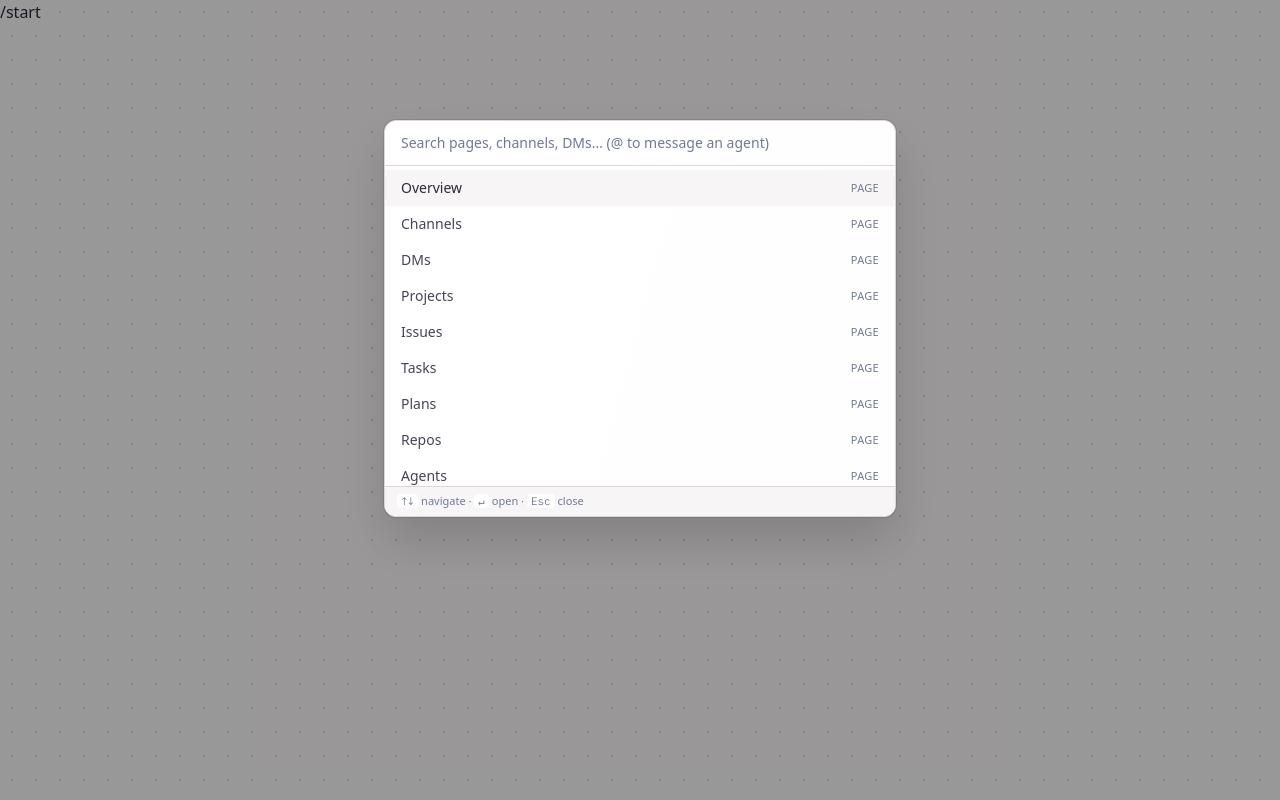
it: CommandPalette org-scoped navigation (v2.8.1 fix) › navigates to /organizations/{slug}/… when an org context is present
This screenshot has width=1280, height=800.
In the field with test id "palette-input": (640, 144) x1=385 y1=121 x2=895 y2=166, type "channels"
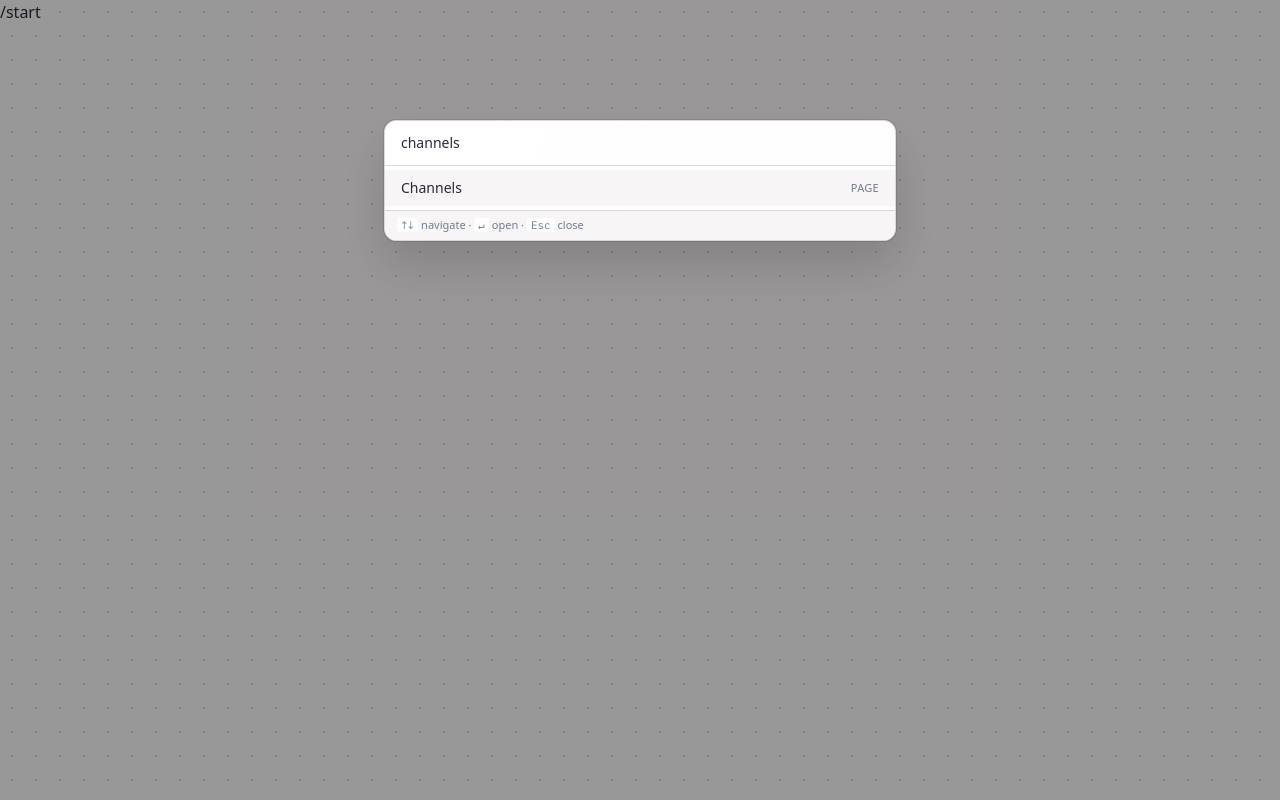
Press Enter in the field with test id "palette-input", box x1=385 y1=121 x2=895 y2=166
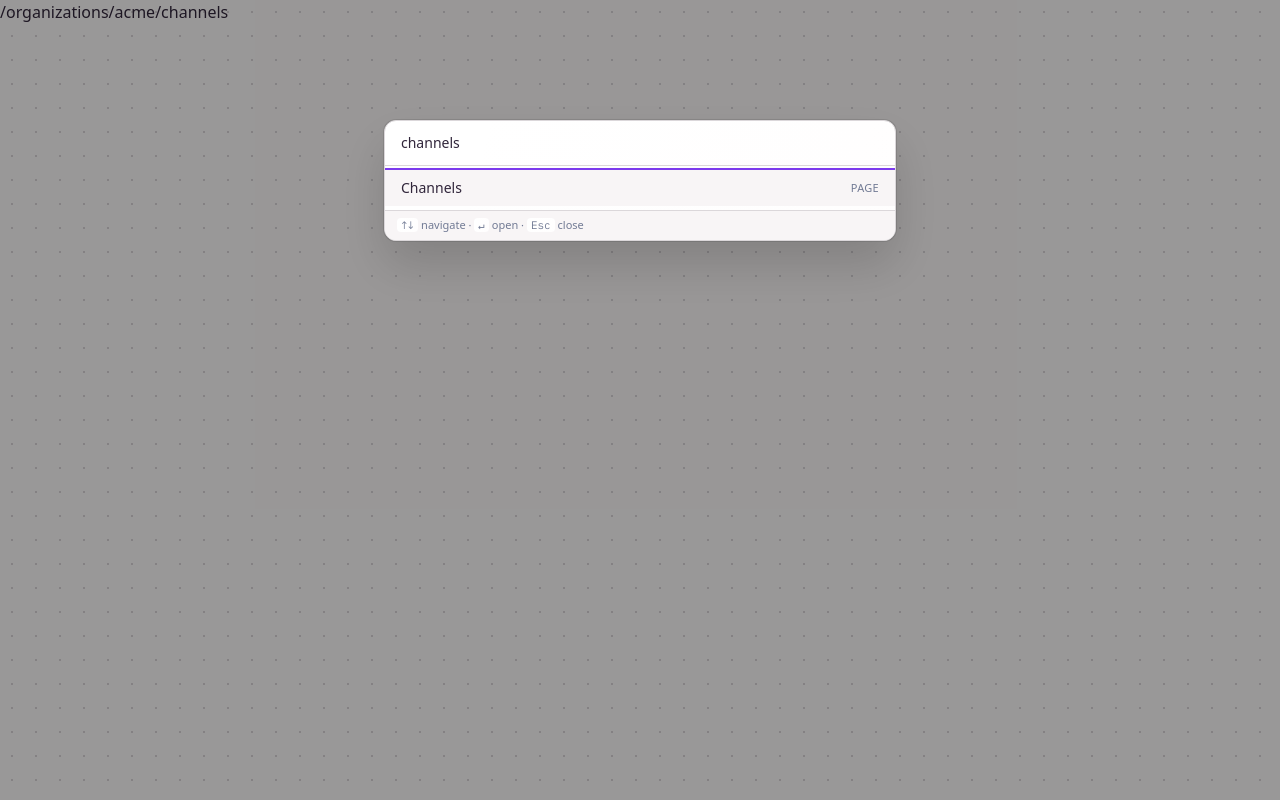
Result: the text with test id "loc" reads "/organizations/acme/channels" at x1=0 y1=1 x2=228 y2=23
